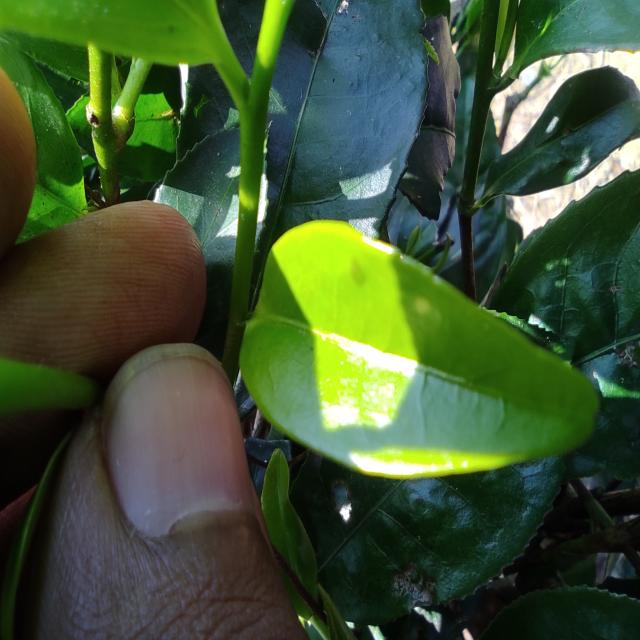Category C 4-7 days: (230, 193, 609, 520)
